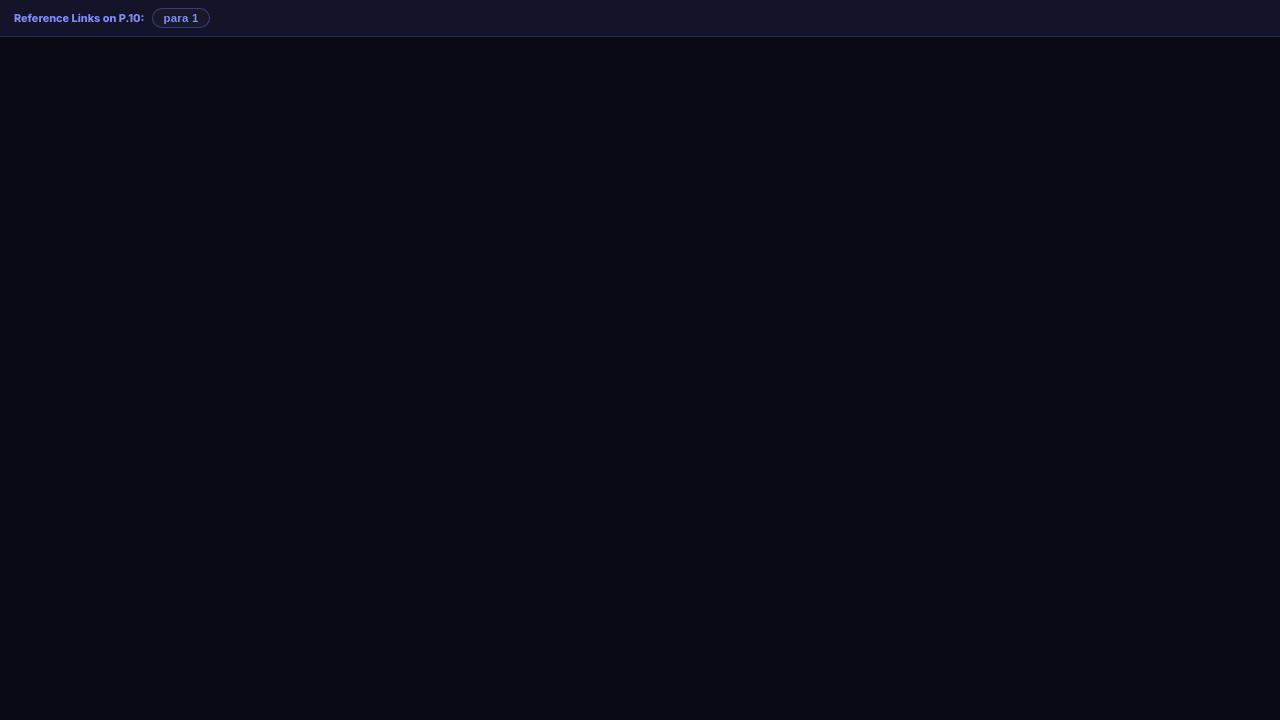
Test: PageReferenceBadges › Escape closes an open picker modal without calling onOpenReference
Click the button with test id "page-reference-badge-point:1": (181, 18) [152,8,210,28]
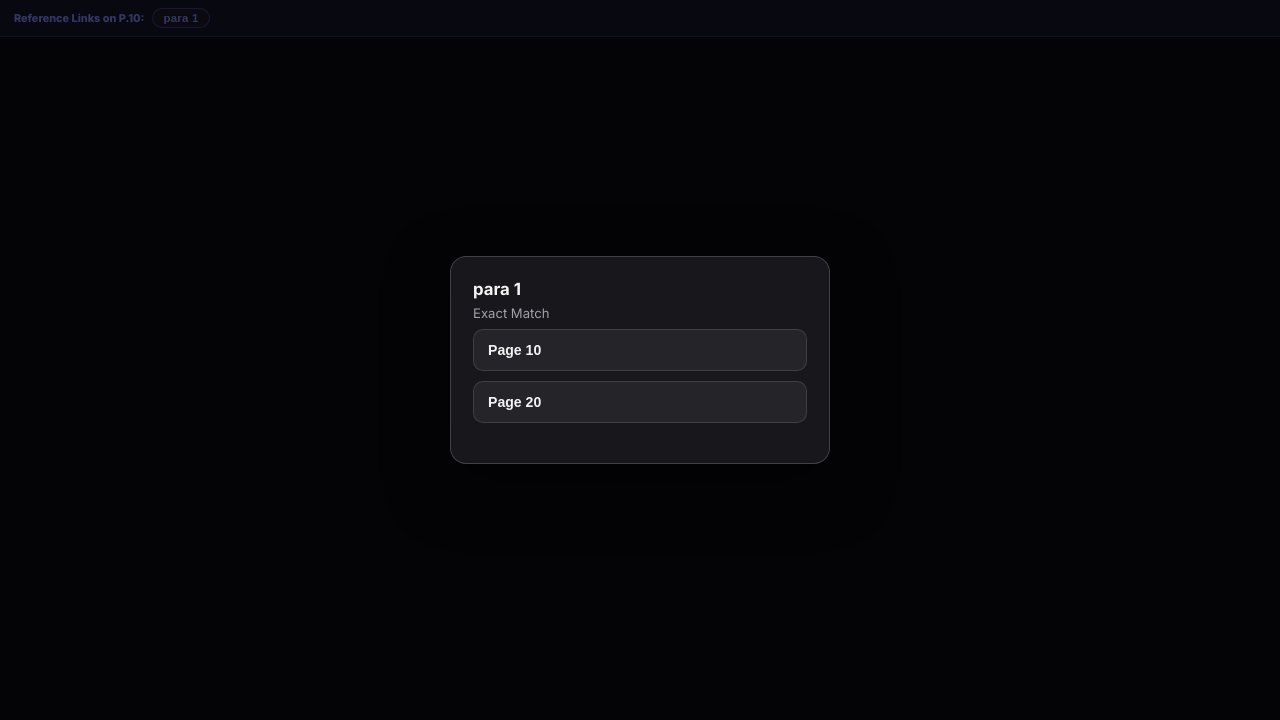
Result: the element with test id "page-reference-candidates-modal" is shown at [450,256,830,464]
Press Escape
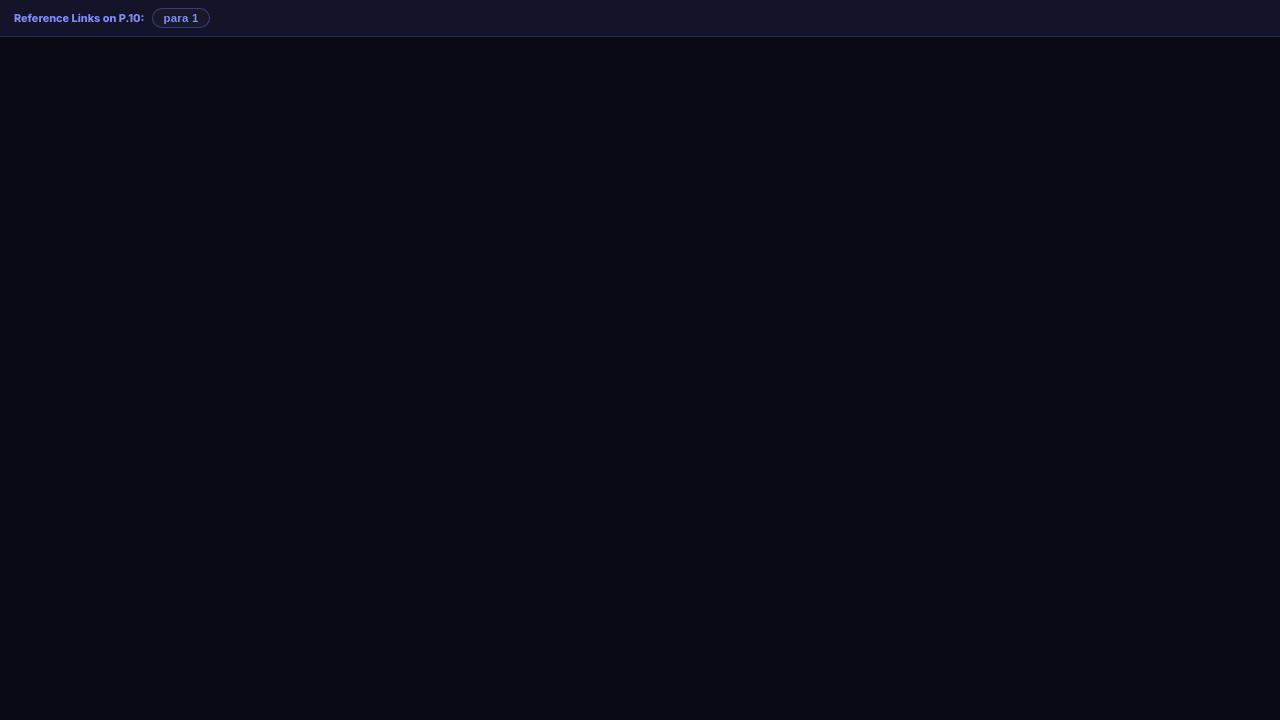
Result: the element with test id "page-reference-candidates-modal" is gone
